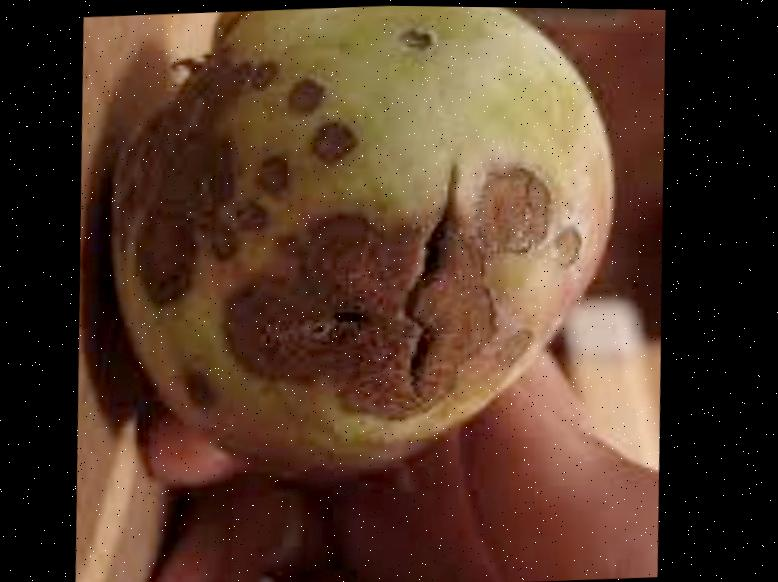SCAB: (66, 1, 647, 529)
